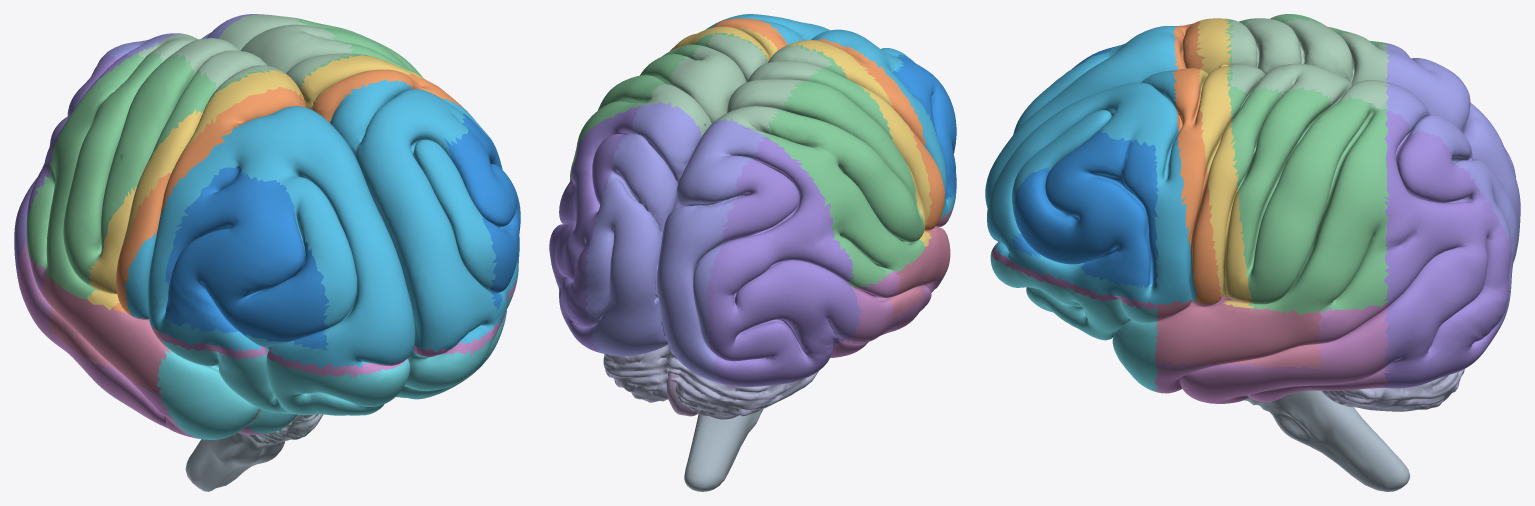
Rendered from cortex-brain-v5.glb.
3 views of the same model, side by side, from view 1: azimuth 30°, elevation 25°; view 2: azimuth 150°, elevation 25°; view 3: azimuth 270°, elevation 25° (orthographic). The views are drawn at different scales.
Parts seen in each view (by area): view 1: Cortex_frontal_L, Cortex_frontal_R, Cortex_parietal_L, Cortex_dlpfc_L, Cortex_ofc_L, Cortex_auditory_L, Cortex_somatosensory_L, Cortex_temporal_L, Cortex_dlpfc_R, Cortex_motor_L, Cortex_precuneus_R, Brainstem (+8 smaller); view 2: Cortex_occipital_L, Cortex_parietal_L, Cortex_visual_R, Cortex_visual_L, Cortex_occipital_R, Cerebellar_hemispheres, Cortex_precuneus_R, Cortex_precuneus_L, Cortex_somatosensory_L, Brainstem, Cortex_temporal_L, Cortex_parietal_R (+8 smaller); view 3: Cortex_parietal_R, Cortex_occipital_R, Cortex_frontal_R, Cortex_dlpfc_R, Cortex_temporal_R, Cortex_auditory_R, Brainstem, Cortex_somatosensory_R, Cortex_precuneus_L, Cortex_frontal_L, Cortex_ofc_R, Cortex_visual_L (+7 smaller).
Part boxes in pixels (x1=…): Cortex_frontal_L: x1=124, y1=106, x2=415, y2=370; Cortex_frontal_R: x1=330, y1=79, x2=519, y2=352; Cortex_parietal_L: x1=26, y1=52, x2=285, y2=300; Cortex_dlpfc_L: x1=165, y1=166, x2=329, y2=350; Cortex_ofc_L: x1=156, y1=339, x2=410, y2=439; Cortex_auditory_L: x1=42, y1=274, x2=173, y2=394; Cortex_somatosensory_L: x1=87, y1=70, x2=305, y2=310; Cortex_temporal_L: x1=17, y1=241, x2=407, y2=438; Cortex_dlpfc_R: x1=444, y1=113, x2=520, y2=310; Cortex_motor_L: x1=112, y1=86, x2=306, y2=316; Cortex_precuneus_R: x1=218, y1=14, x2=363, y2=90; Brainstem: x1=185, y1=414, x2=323, y2=491; Cortex_occipital_L: x1=706, y1=136, x2=862, y2=386; Cortex_parietal_L: x1=760, y1=44, x2=925, y2=288; Cortex_visual_R: x1=585, y1=102, x2=701, y2=356; Cortex_visual_L: x1=655, y1=119, x2=764, y2=384; Cortex_occipital_R: x1=549, y1=105, x2=640, y2=352; Cerebellar_hemispheres: x1=603, y1=344, x2=818, y2=419; Cortex_precuneus_R: x1=644, y1=33, x2=768, y2=136; Cortex_precuneus_L: x1=711, y1=45, x2=831, y2=134; Cortex_somatosensory_L: x1=784, y1=40, x2=932, y2=246; Brainstem: x1=684, y1=409, x2=763, y2=491; Cortex_temporal_L: x1=830, y1=206, x2=953, y2=357; Cortex_parietal_R: x1=562, y1=32, x2=767, y2=195; Cortex_parietal_R: x1=1225, y1=65, x2=1389, y2=315; Cortex_occipital_R: x1=1383, y1=111, x2=1511, y2=388; Cortex_frontal_R: x1=987, y1=70, x2=1196, y2=305; Cortex_dlpfc_R: x1=1011, y1=127, x2=1158, y2=288; Cortex_temporal_R: x1=991, y1=240, x2=1391, y2=403; Cortex_auditory_R: x1=1154, y1=295, x2=1323, y2=369; Brainstem: x1=1244, y1=390, x2=1409, y2=491; Cortex_somatosensory_R: x1=1199, y1=64, x2=1253, y2=307; Cortex_precuneus_L: x1=1228, y1=18, x2=1389, y2=85; Cortex_frontal_L: x1=985, y1=26, x2=1178, y2=207; Cortex_ofc_R: x1=990, y1=251, x2=1158, y2=392; Cortex_visual_L: x1=1384, y1=44, x2=1520, y2=261.
Size of the model in its own units: 5.07 by 5.87 by 6.39.
